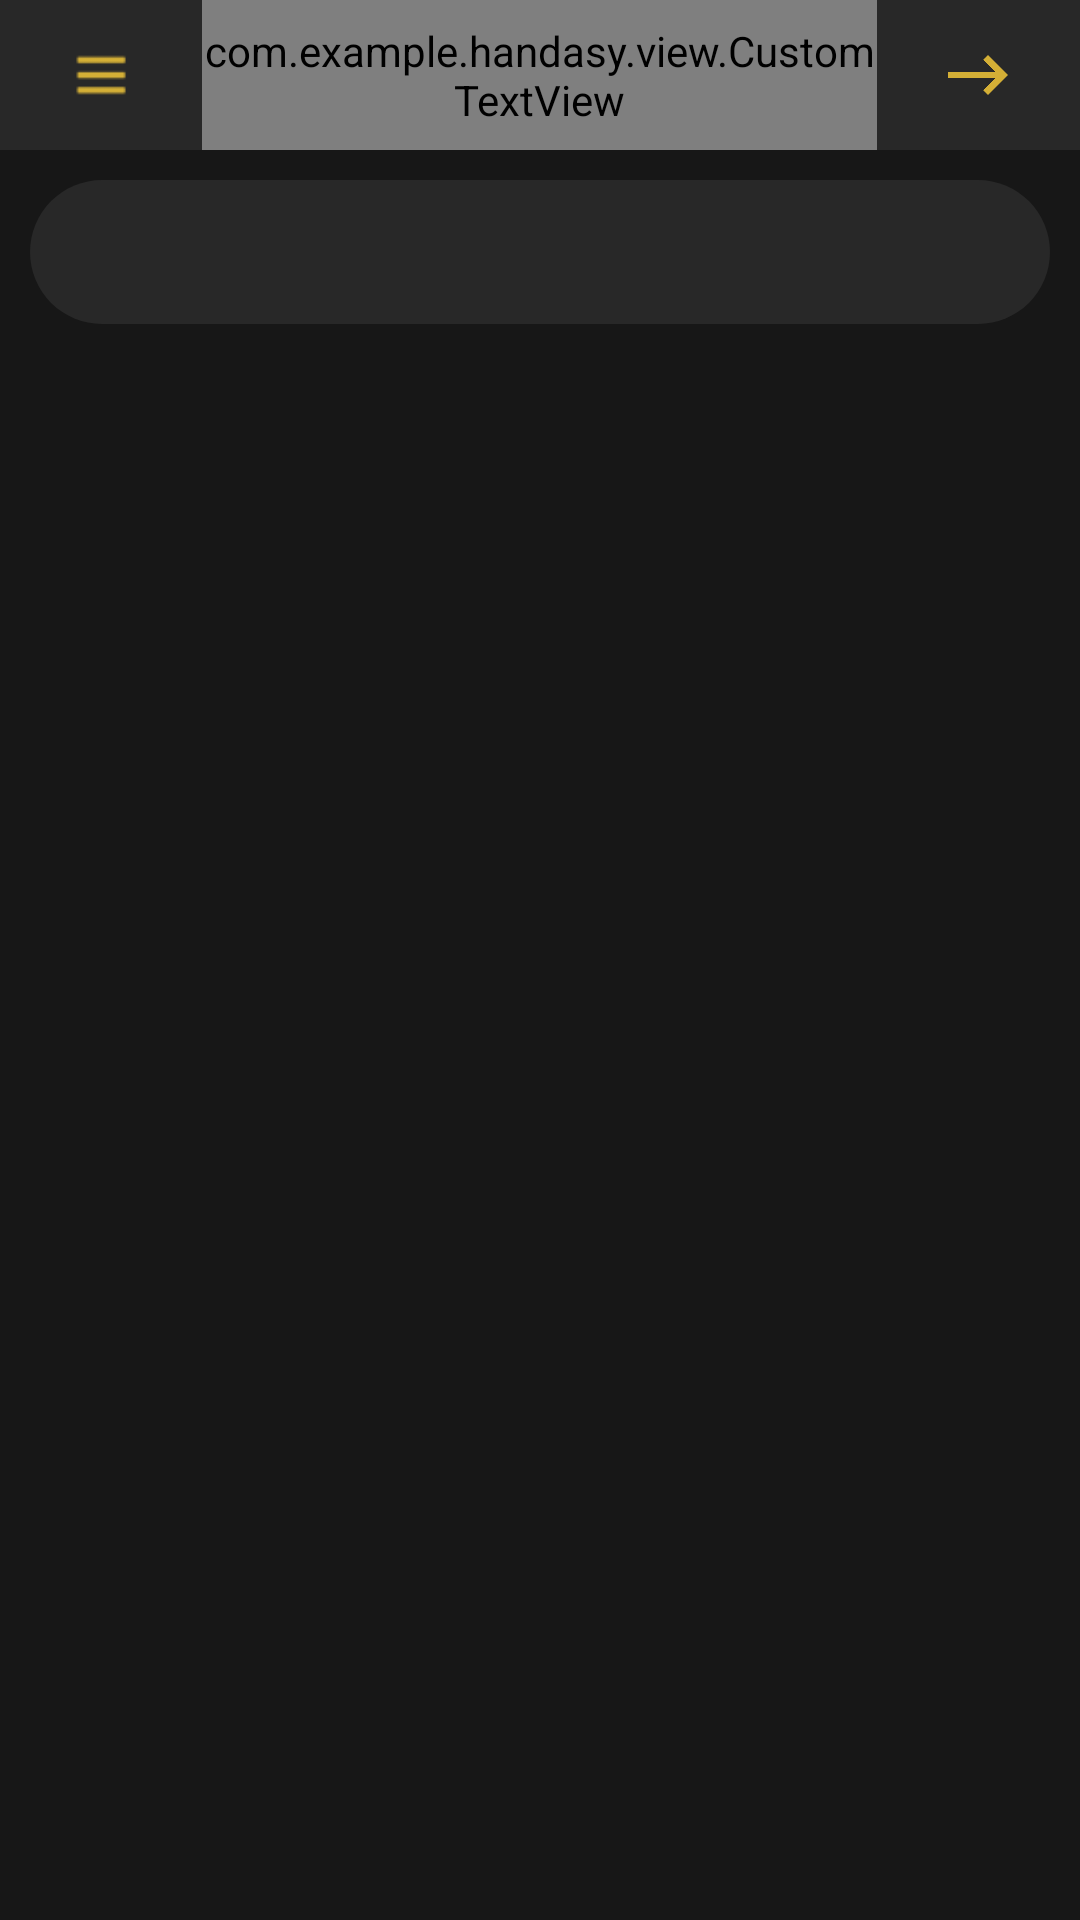

Screen size 1080x1920. Icon name, then its box in pixels as bbox(x1, y1, x2, y2):
menu: bbox(76, 56, 126, 95)
